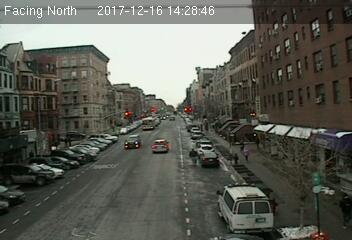car: (200, 150, 218, 166), (125, 135, 142, 150), (151, 139, 169, 153)
police: (216, 180, 275, 231)
